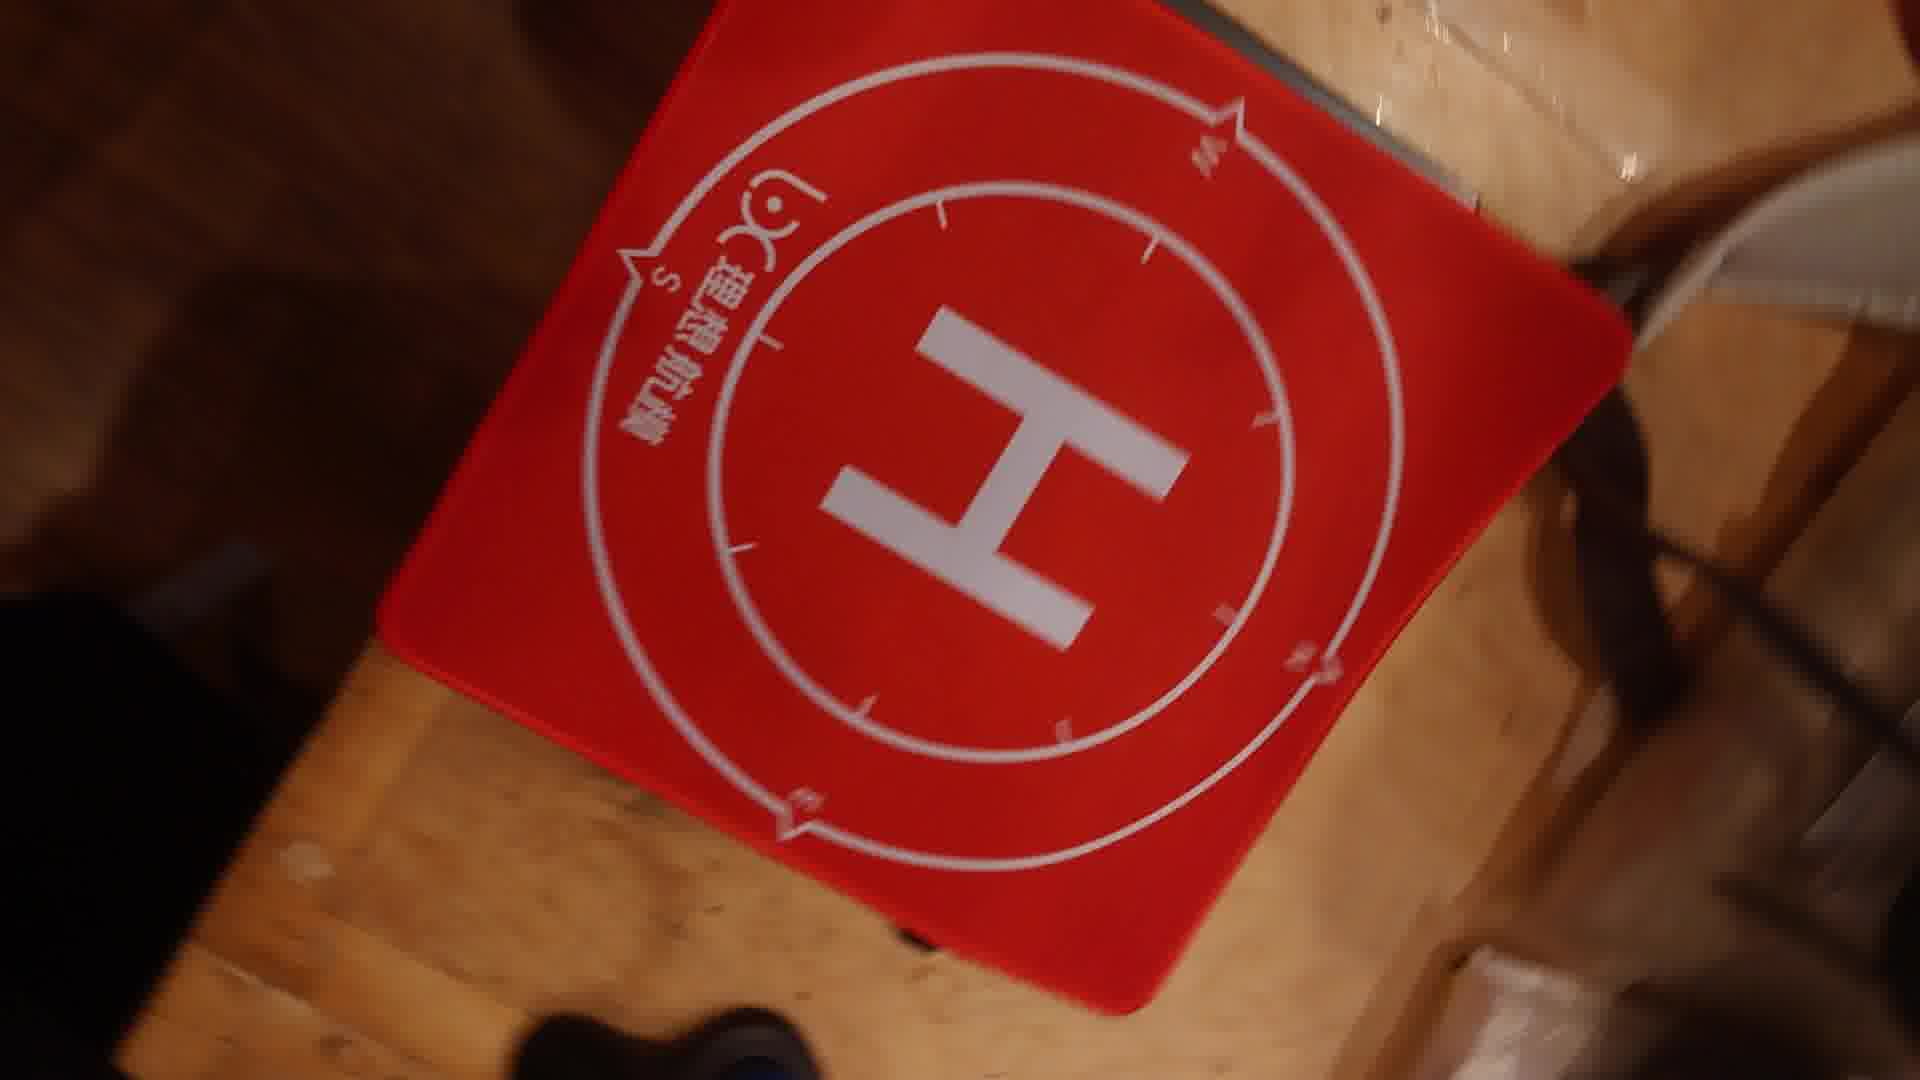H: (820, 302, 1195, 651)
